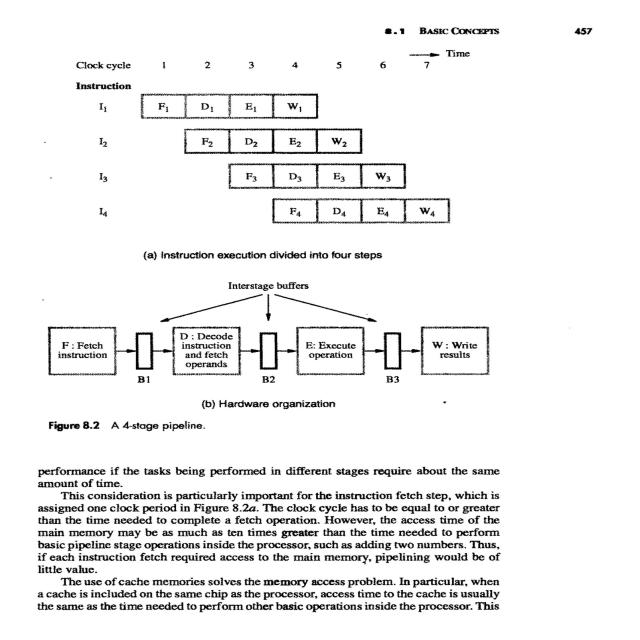diagram: (30, 50, 628, 449)
